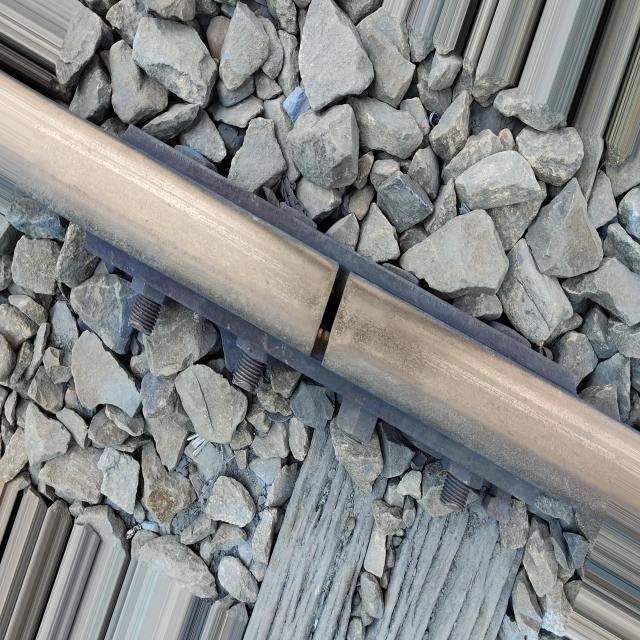crack: (308, 250, 362, 388)
